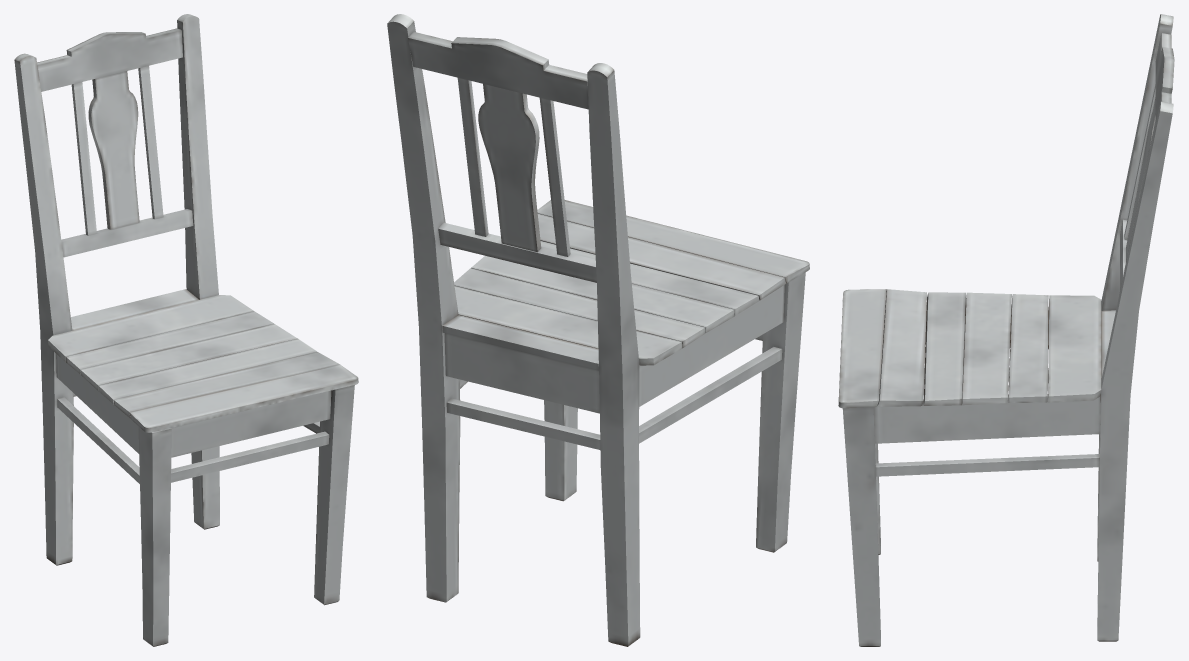
Rendered from painted_wooden_chair_01.fbx.
3 views of the same model, side by side, from view 1: azimuth 30°, elevation 25°; view 2: azimuth 150°, elevation 25°; view 3: azimuth 270°, elevation 25° (orthographic). The views are drawn at different scales.
Parts seen in each view (by area): view 1: painted_wooden_chair_01; view 2: painted_wooden_chair_01; view 3: painted_wooden_chair_01.
Boxes of the visible parts, x1,y1,x2,y2 form: painted_wooden_chair_01: (14, 14, 358, 646); painted_wooden_chair_01: (387, 14, 809, 646); painted_wooden_chair_01: (838, 14, 1174, 646).
Bounding box in the file's own units: 0.4318 × 0.9565 × 0.5398.
